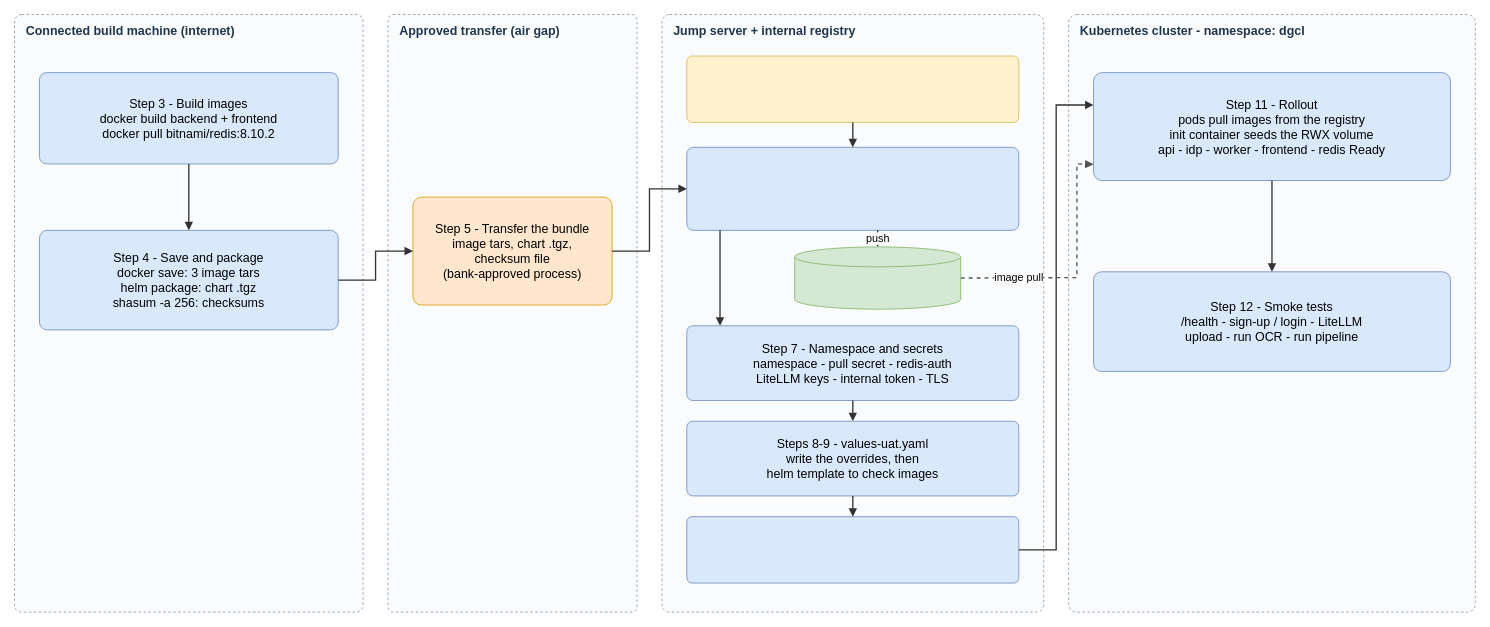
Image size: 1490x627. Some labels were removed from this diagram. The centre of each missing label's shape, as x and y in pixels:
Internal container registry: [877,277]
Step 10 - helm upgrade --install from the packaged chart: [852,549]
Step 6 - Verify, load, push shasum check - docker load docker tag - docker push: [852,188]
Steps 1-2 - Cluster access and platform prerequisites: [852,88]
